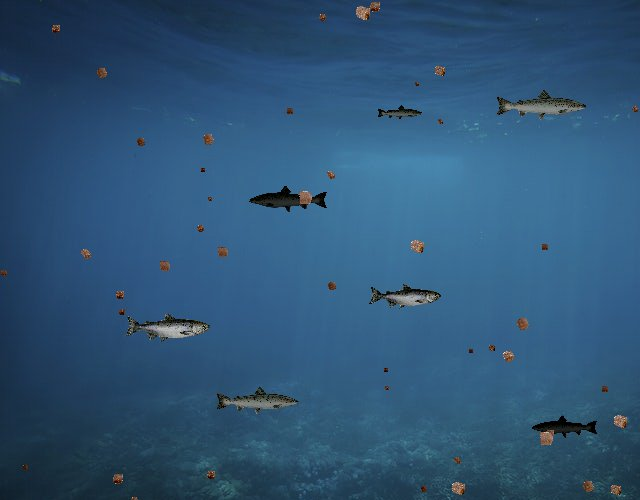Fish: (495, 88, 589, 122), (214, 385, 300, 416), (124, 312, 210, 343), (249, 184, 330, 214), (369, 283, 442, 309), (531, 415, 599, 439), (376, 105, 423, 122)
Pellet: (510, 311, 536, 337), (496, 344, 521, 369), (75, 243, 96, 265), (484, 341, 498, 355), (204, 194, 214, 204)
